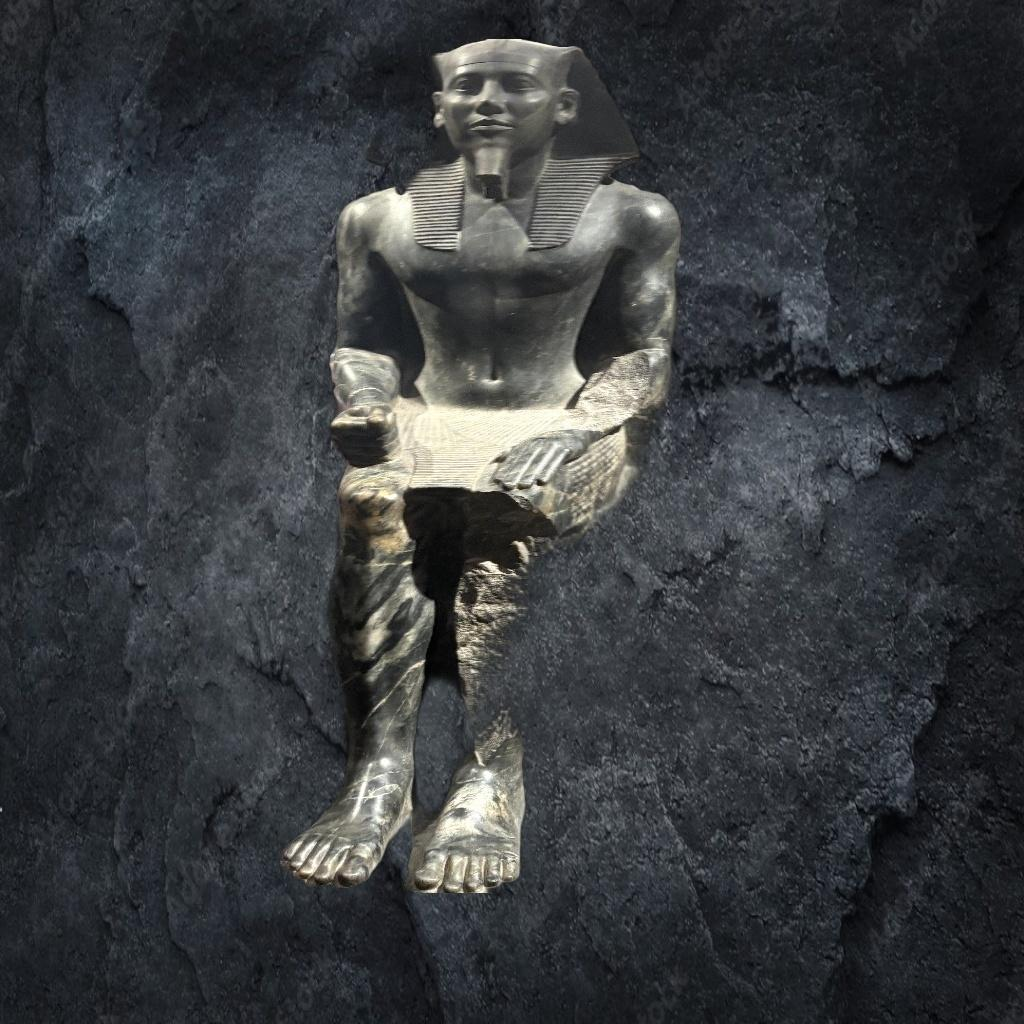Statue of Khafre: (280, 40, 686, 892)
